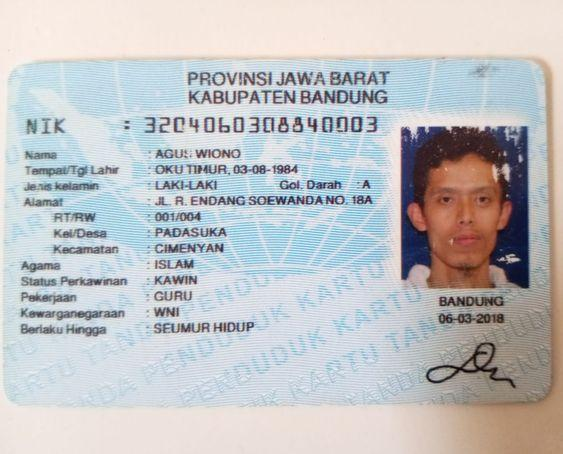ID-card: (9, 62, 547, 401)
